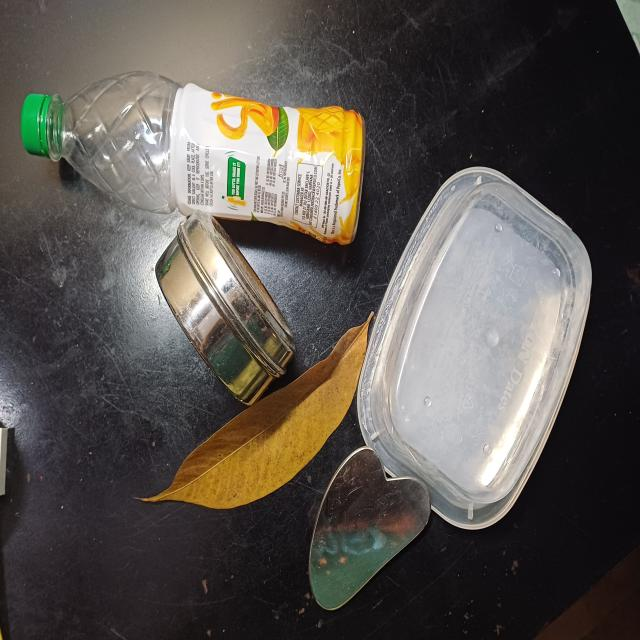Leaf-Bio: (134, 307, 373, 520)
Plastic-NonBio: (355, 165, 594, 536), (18, 66, 368, 250)
Steel-NonBio: (154, 205, 296, 412), (308, 447, 434, 619)
